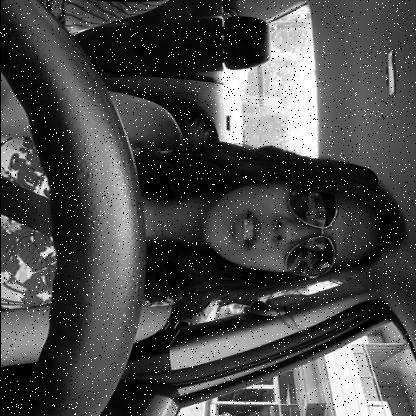seatbelt: (0, 146, 408, 324)
